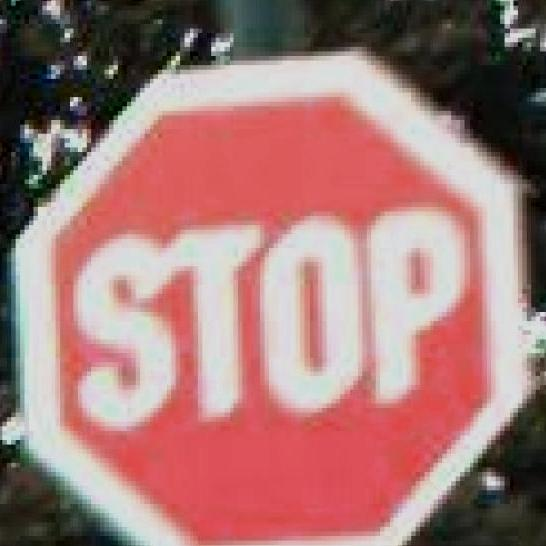stop_sign: (2, 46, 536, 546)
